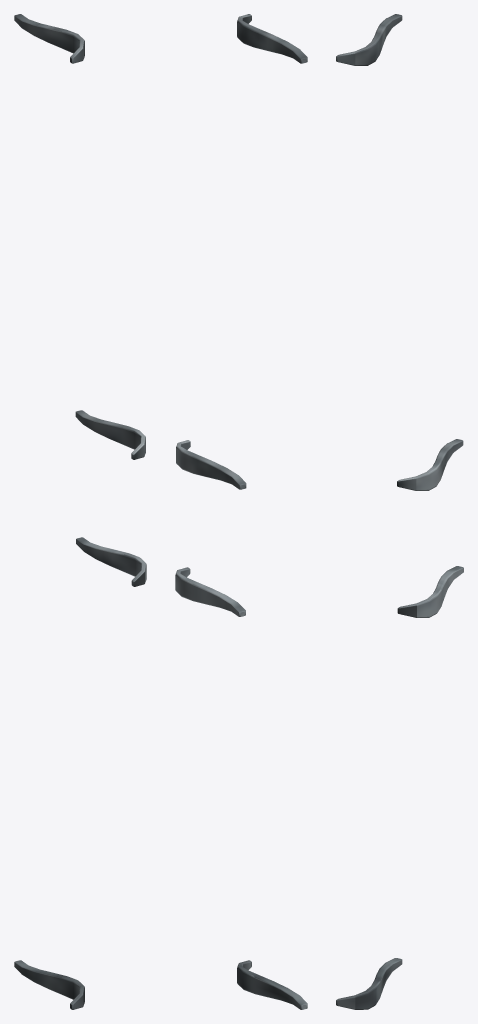
The model's file is bookshelf_10.obj.
The picture shows the model from 3 angles, left to right: view 1: azimuth 30°, elevation 25°; view 2: azimuth 210°, elevation 25°; view 3: azimuth 330°, elevation 25°; orthographic projection.
Bounding box in the file's own units: 0.2517 × 2.72 × 0.3016.
